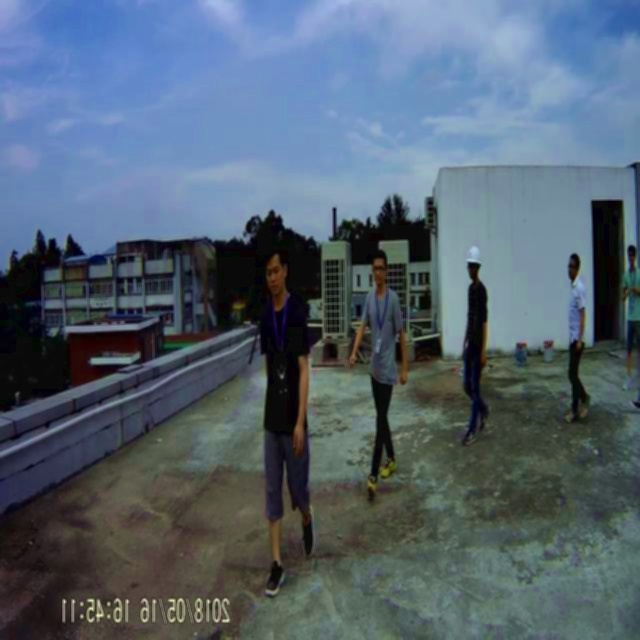Con_Casco: (466, 246, 483, 282)
Sin_Casco_Mascarrilla: (368, 250, 390, 288)
Sin_Chaleco: (363, 289, 405, 391)
